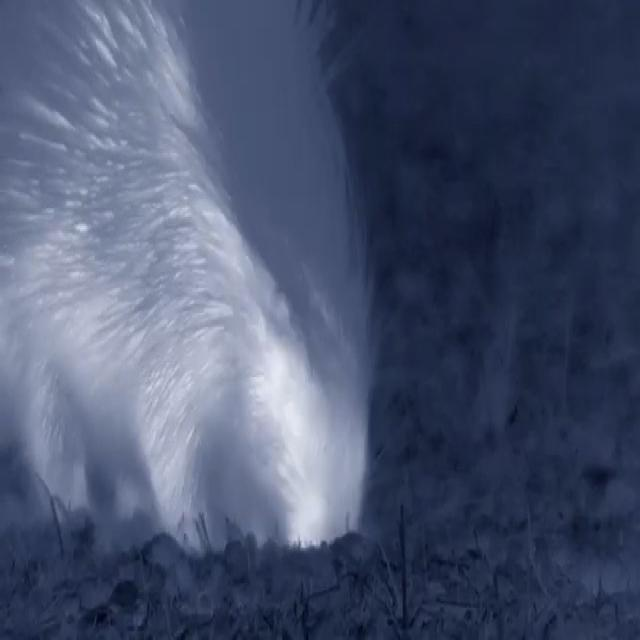animal: (1, 0, 427, 585)
